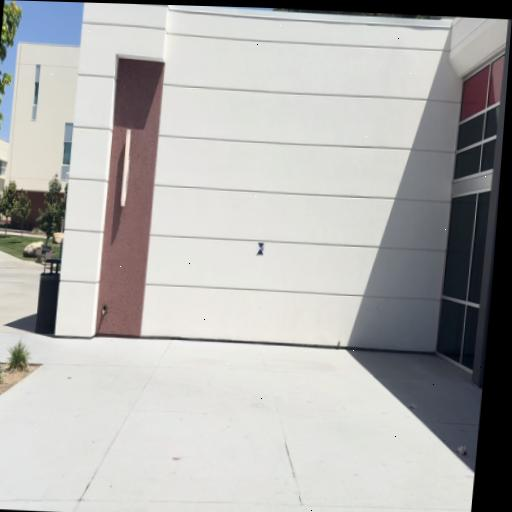target0: (257, 242, 265, 255)
